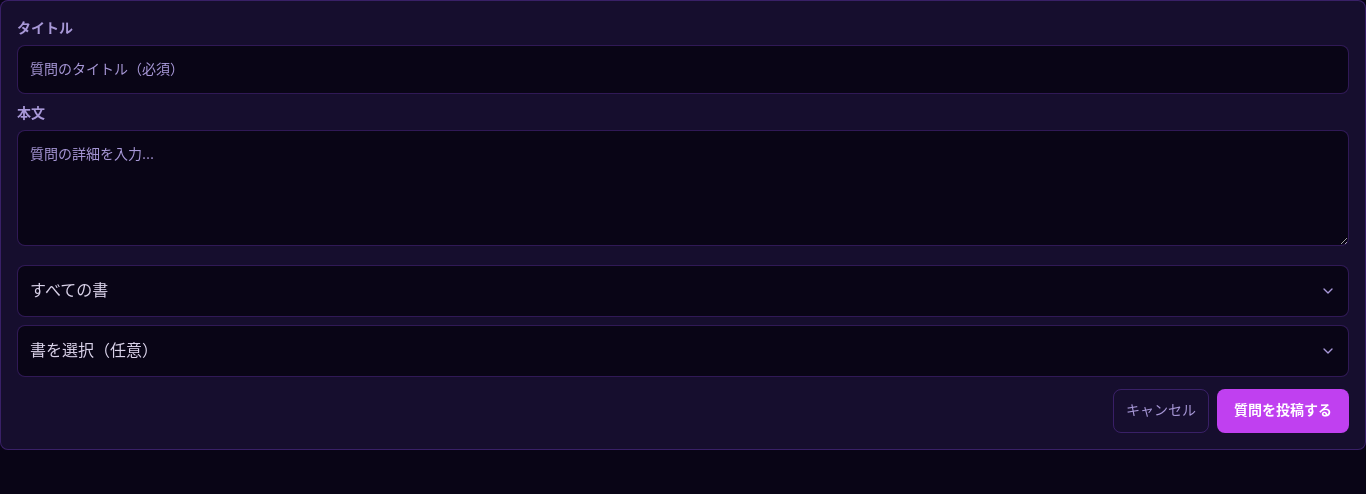
Scenario: QAPostForm › 必須入力が空のまま投稿すると、足りない項目を名指しする
Click the button "質問を投稿する" at point(1283, 410), box [1217,388,1349,432]
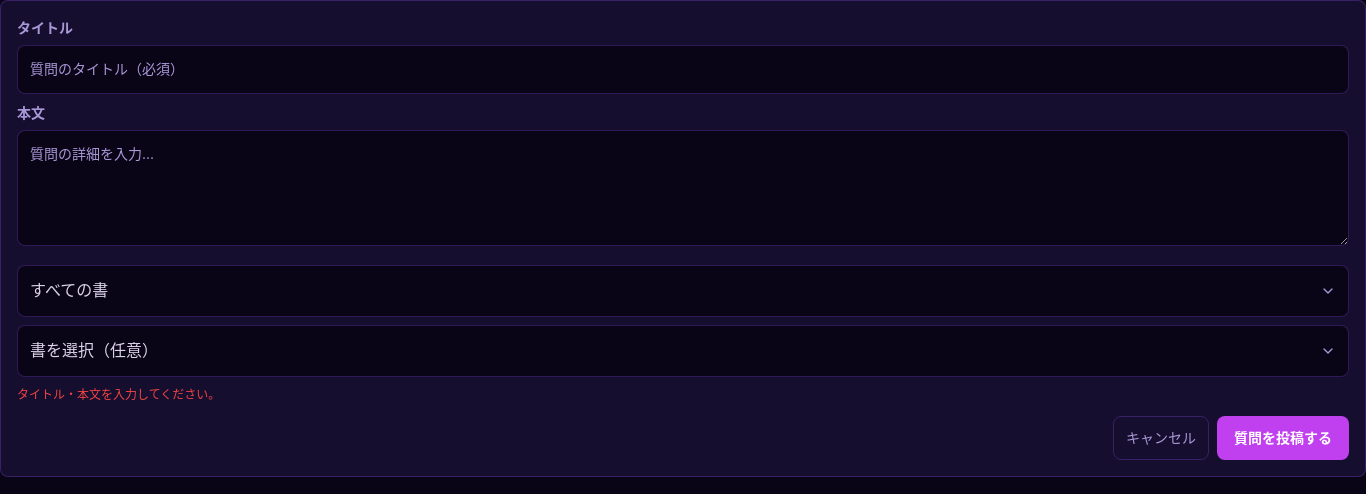
Expected: the message reads "タイトル・本文を入力してください。", [17,386,220,402]
// 片方だけ埋めたら、残っている方だけを名指しする。
Type "質問タイトル" into the field with placeholder "質問のタイトル（必須）" at point(683, 70), box [17,45,1349,94]
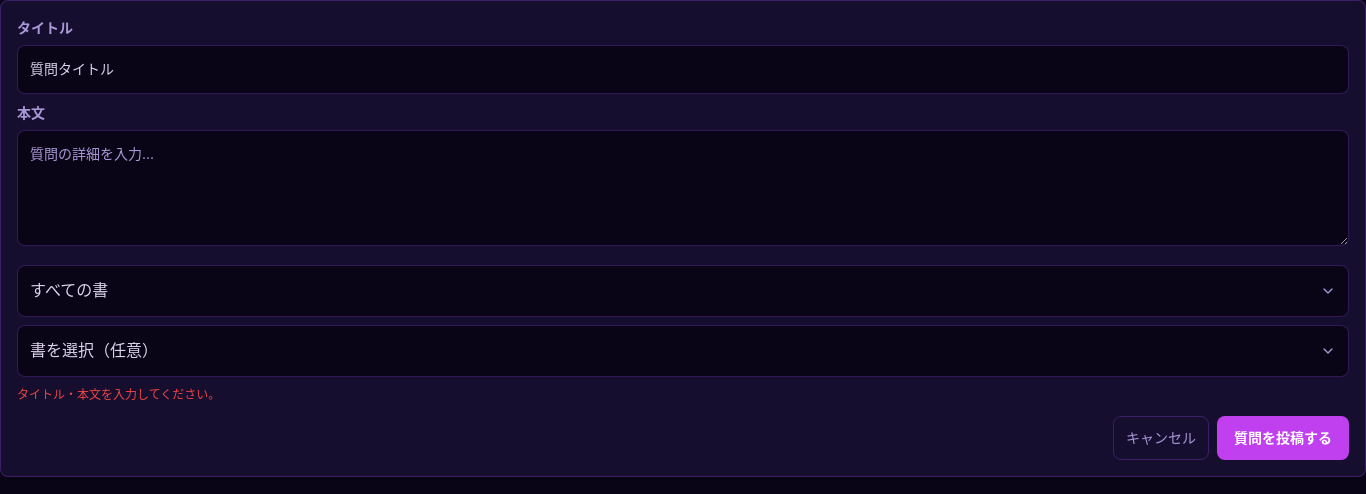
Click the button "質問を投稿する" at point(1283, 438), box [1217,416,1349,460]
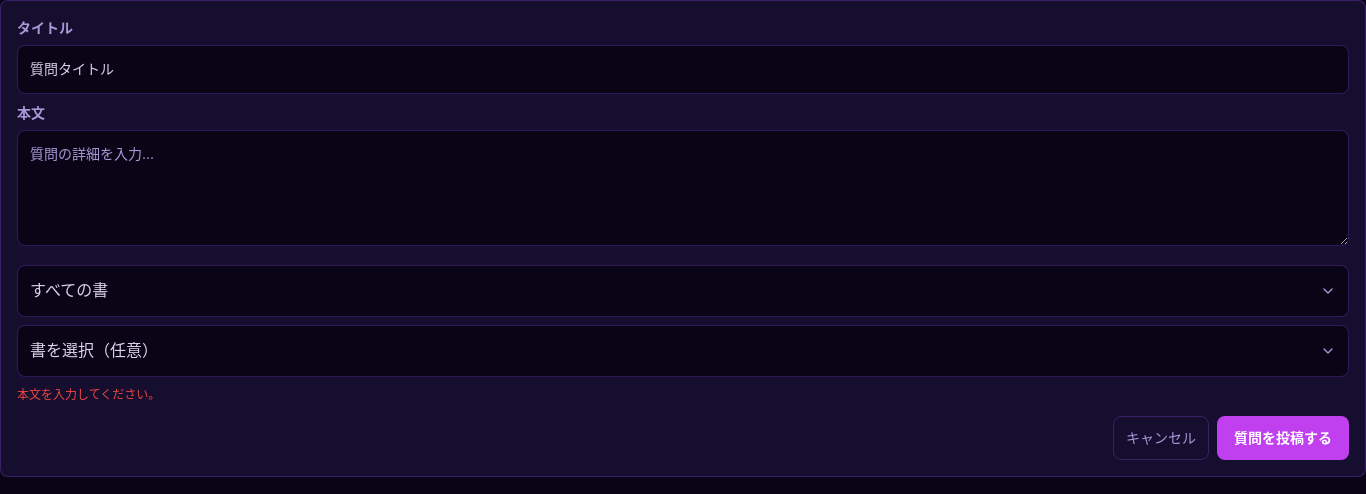
Expected: the message reads "本文を入力してください。", [17,386,160,402]
